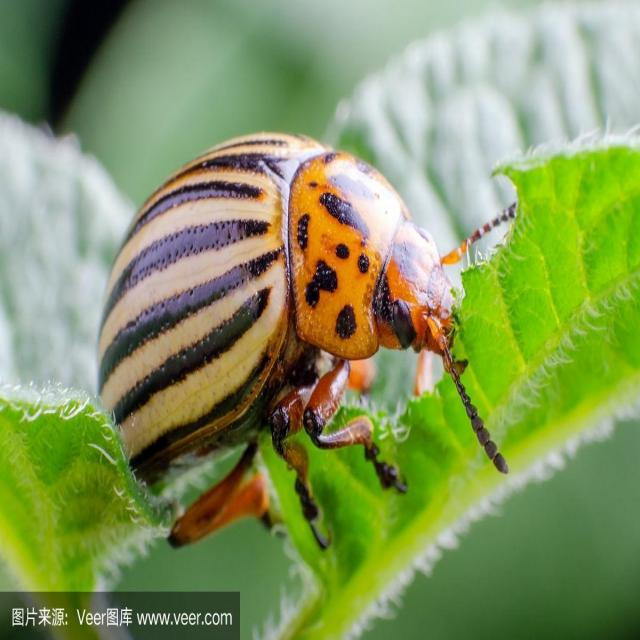ShuCaiHuaBanChong-Grown-: (74, 88, 461, 516)
